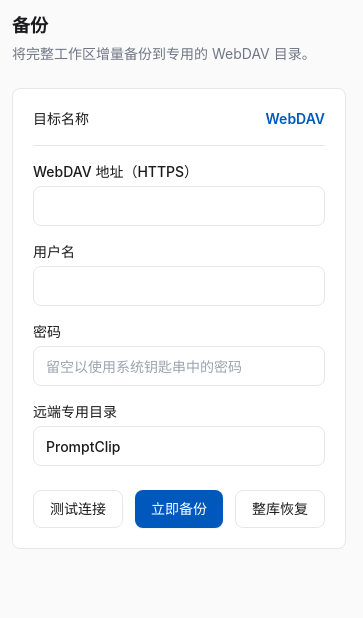
Test: BackupSettings › explains how to fix a missing WebDAV remote directory
Click the button "测试连接": (78, 509) x1=33 y1=490 x2=123 y2=528
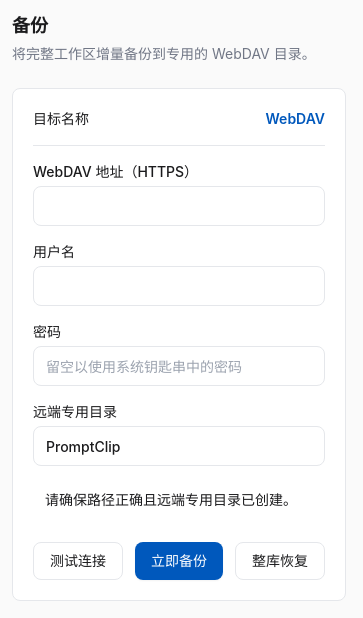
Check: the text "请确保路径正确且远端专用目录已创建。" is shown, box x1=45 y1=491 x2=297 y2=508
